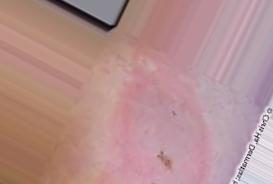Tick: (125, 84, 211, 183)
